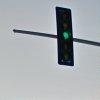Traffic light: (45, 2, 86, 70)
